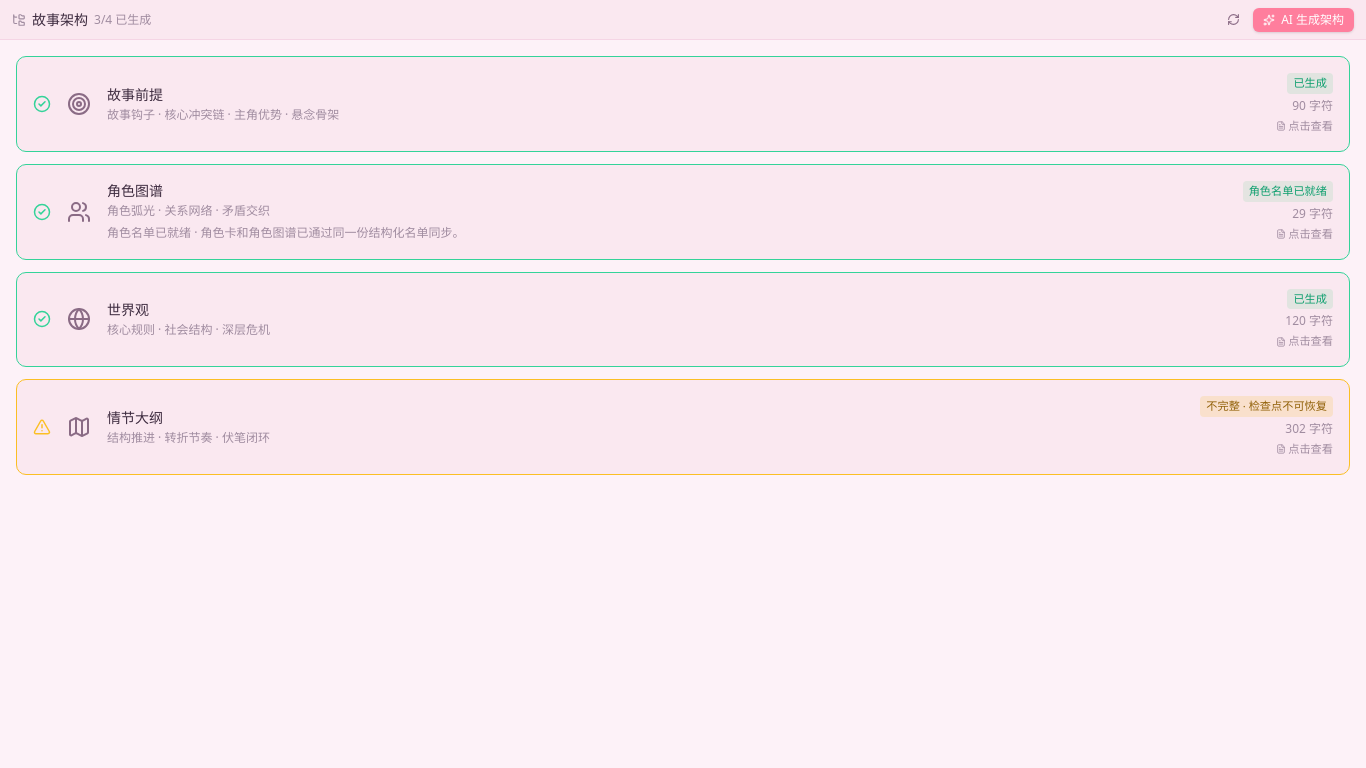
Test: workflow launch language seams › shows a DB-partial synopsis with a missing checkpoint as unavailable, not completed or resumable
Expected: the text "不完整 · 检查点不可恢复" is shown, 1200,396 -> 1333,417
Expected: the text "3/4 已生成" is shown, 94,12 -> 151,28
Click the button named "刷新状态": click(1233, 20) 1219,6 -> 1247,34
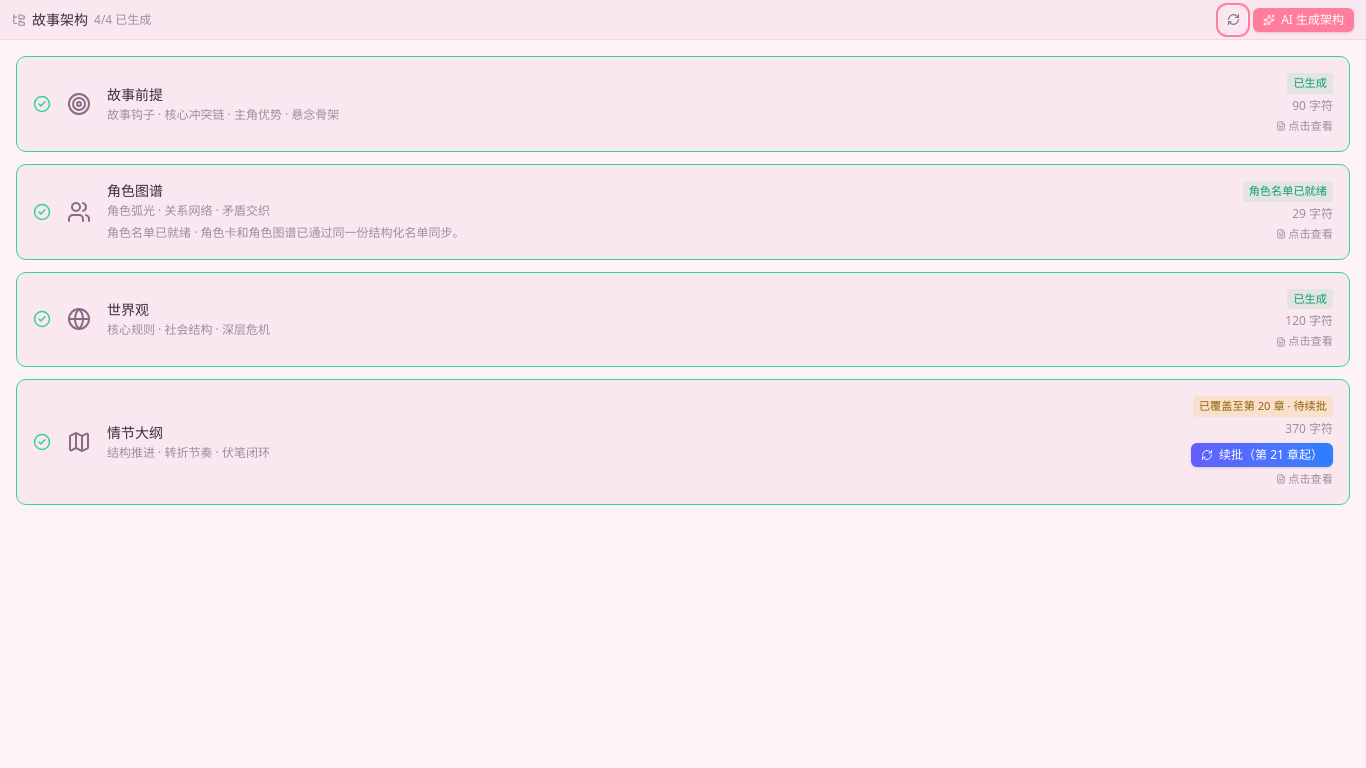
Now the text "已覆盖至第 20 章 · 待续批" is shown, box 1193,396 -> 1333,417
Click the button "续批（第 21 章起）": click(1262, 455) 1191,443 -> 1333,467
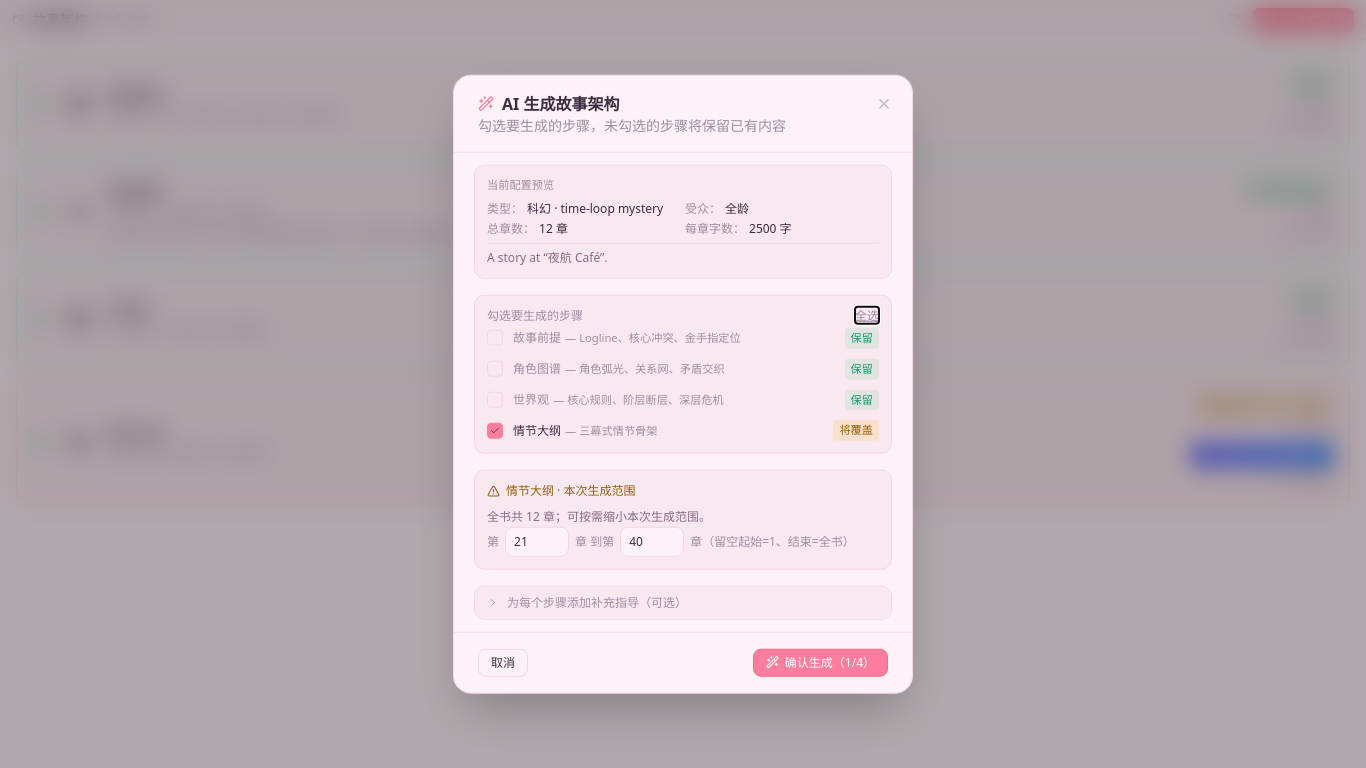
Now the number field named "本次生成范围的起始章" holds "21", box 505,526 -> 569,556
Now the number field named "本次生成范围的结束章" holds "40", box 620,526 -> 684,556
